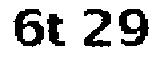2: (80, 5, 115, 53)
6: (9, 3, 46, 52)
9: (118, 8, 153, 53)
t: (45, 11, 72, 50)
